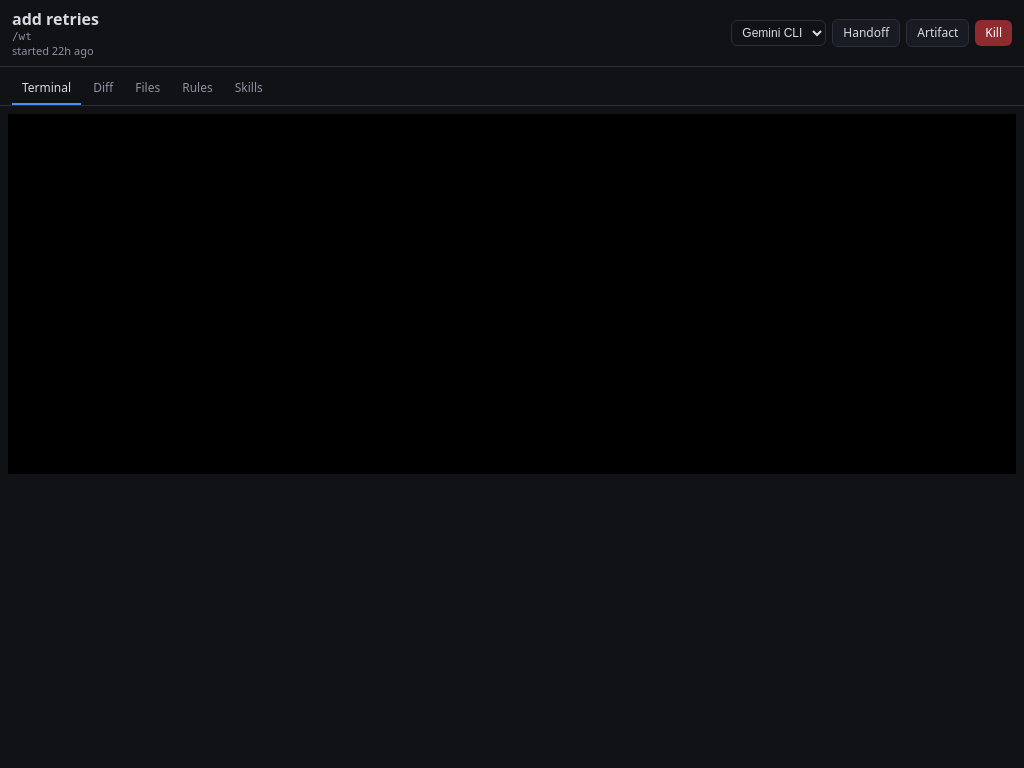
Test: SessionDetail › links the shared team memory copy when the artifact was pushed there
This screenshot has width=1024, height=768.
Click the button with test id "artifact-button". click: coordinates (938, 33)
box: x1=906 y1=19 x2=969 y2=47
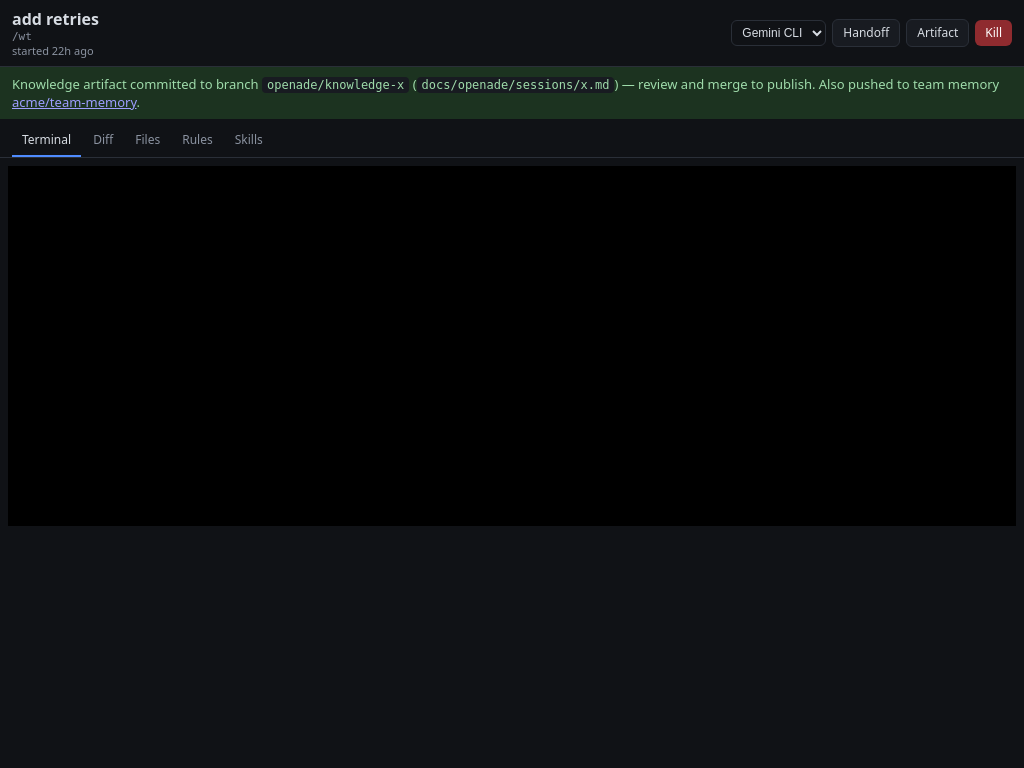
Result: the link with test id "shared-memory-link" reads "acme/team-memory" at x1=12 y1=93 x2=136 y2=111
